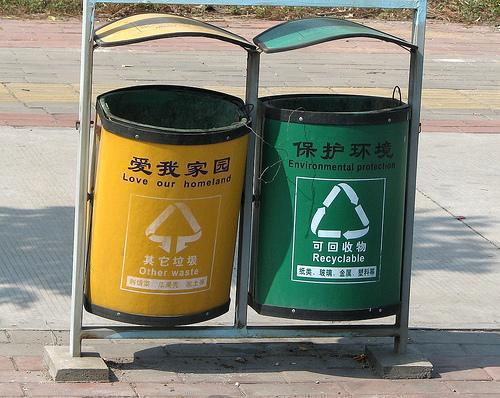Bote de Basura: (78, 17, 259, 321), (246, 22, 411, 318)
